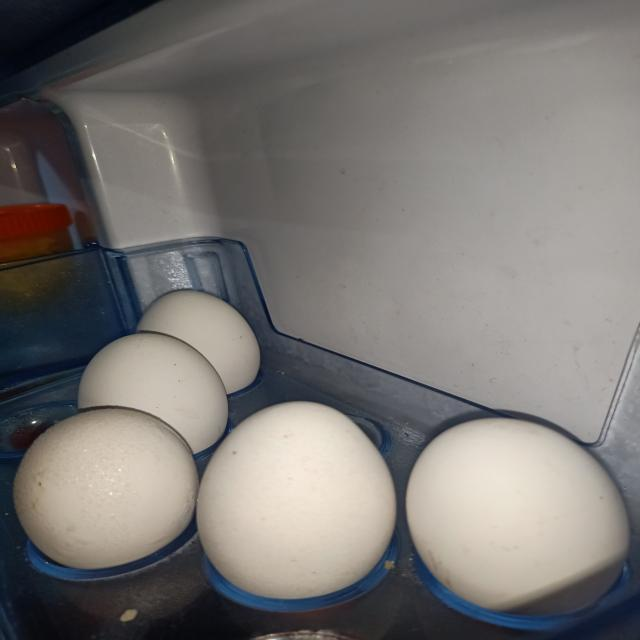Egg: (406, 419, 630, 616), (197, 402, 396, 600), (12, 409, 198, 570), (77, 334, 227, 454), (136, 290, 259, 394)
